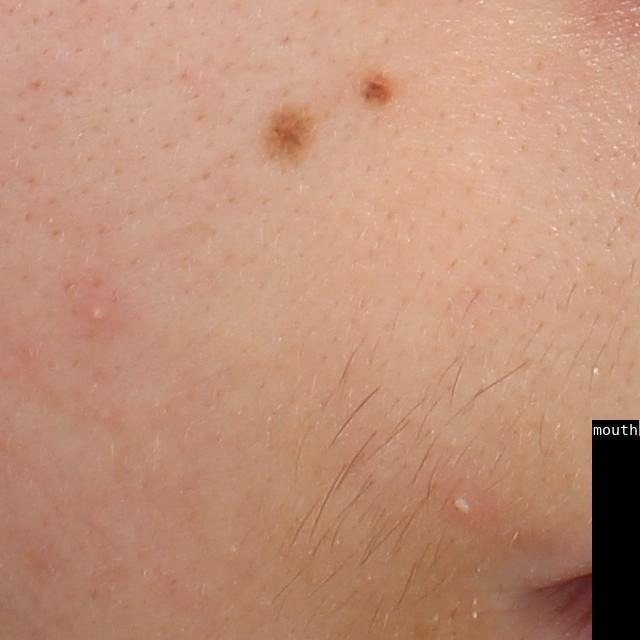nevus: (262, 102, 318, 170), (356, 64, 402, 112)
pustule: (445, 482, 500, 526), (76, 292, 120, 336)
